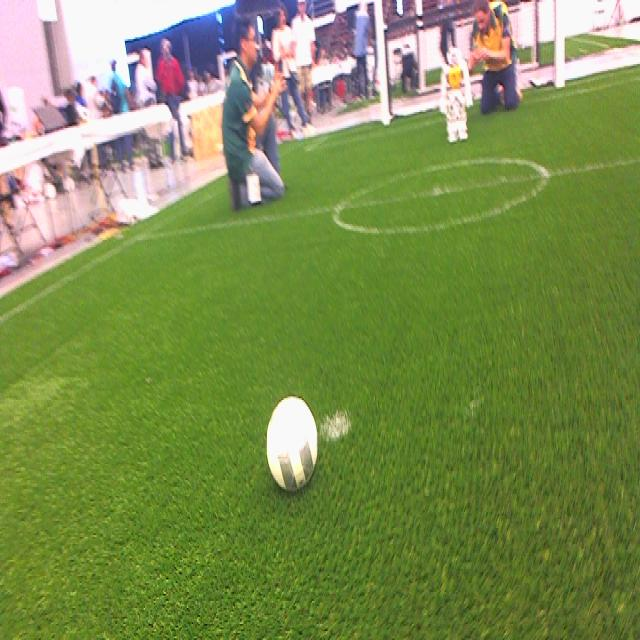ball: (266, 397, 316, 492)
goalpost: (373, 0, 389, 126), (553, 0, 565, 91)
